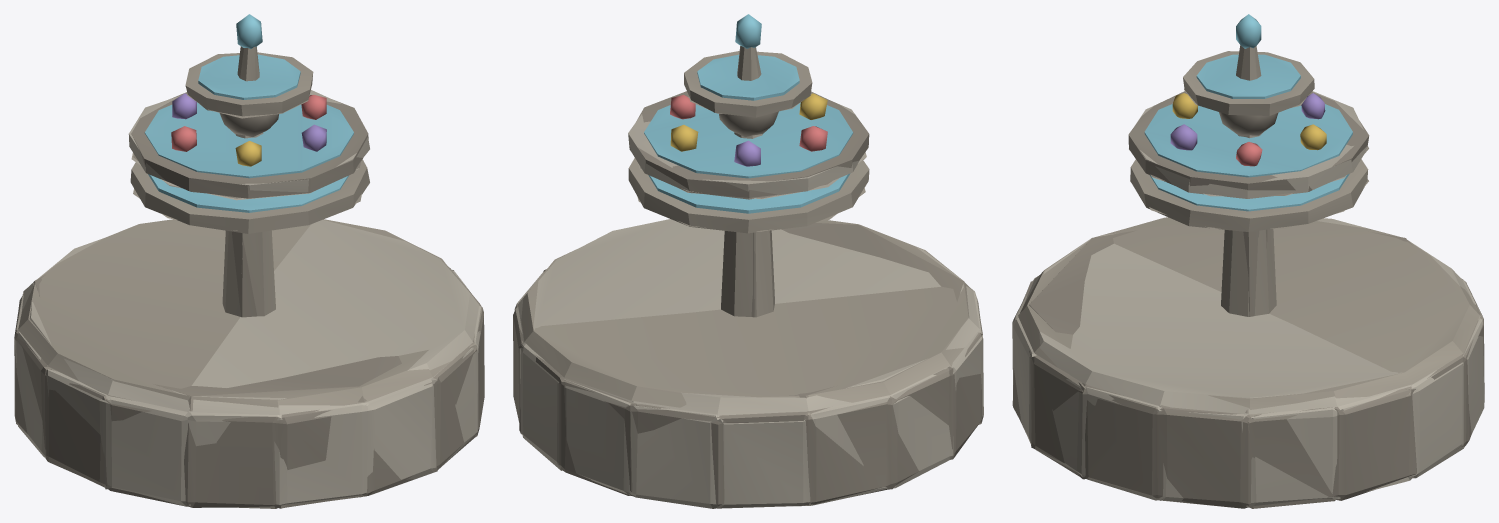
The model's file is fountain.glb.
3 renders of one model, left to right at view 1: azimuth 30°, elevation 25°; view 2: azimuth 150°, elevation 25°; view 3: azimuth 270°, elevation 25°, orthographic.
Parts seen in each view (by area): view 1: fountain.v0.mesh, fountain.v2.mesh, fountain.v1.mesh, fountain.v1.water, fountain.v0.water; view 2: fountain.v0.mesh, fountain.v2.mesh, fountain.v1.mesh, fountain.v1.water, fountain.v0.water; view 3: fountain.v2.mesh, fountain.v0.mesh, fountain.v1.mesh, fountain.v1.water, fountain.v0.water.
Part boxes in pixels (bbox=[...]): fountain.v0.mesh: bbox=[14, 46, 481, 508]; fountain.v2.mesh: bbox=[14, 90, 484, 508]; fountain.v1.mesh: bbox=[22, 92, 477, 497]; fountain.v1.water: bbox=[144, 102, 353, 178]; fountain.v0.water: bbox=[148, 14, 348, 212]; fountain.v0.mesh: bbox=[514, 46, 983, 508]; fountain.v2.mesh: bbox=[513, 93, 982, 508]; fountain.v1.mesh: bbox=[521, 91, 975, 495]; fountain.v1.water: bbox=[644, 97, 853, 178]; fountain.v0.water: bbox=[648, 14, 850, 213]; fountain.v2.mesh: bbox=[1012, 91, 1484, 508]; fountain.v0.mesh: bbox=[1012, 45, 1484, 507]; fountain.v1.mesh: bbox=[1018, 91, 1480, 432]; fountain.v1.water: bbox=[1144, 104, 1352, 177]; fountain.v0.water: bbox=[1149, 14, 1349, 211].
Bounding box in the file's own units: 1.9 × 1.76 × 1.9.
